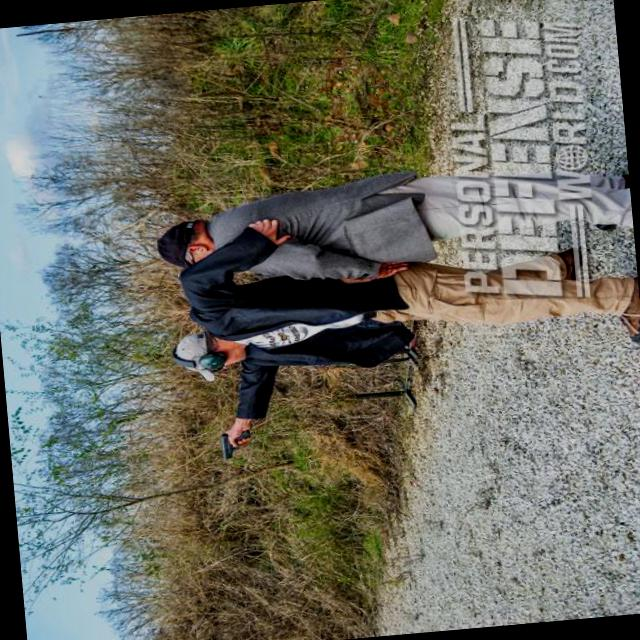handgun: (216, 420, 252, 460)
